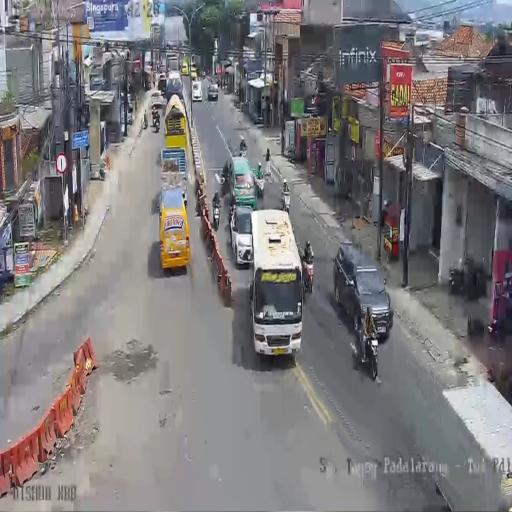car: (333, 240, 393, 344), (159, 186, 190, 270), (229, 154, 256, 212), (229, 204, 254, 266), (166, 75, 184, 103), (150, 89, 164, 112), (192, 80, 202, 102), (208, 83, 218, 101), (181, 58, 189, 76), (190, 66, 198, 80)
motorcycle: (352, 317, 379, 380), (300, 252, 314, 294), (212, 197, 221, 231), (282, 188, 291, 214), (152, 108, 160, 132), (143, 112, 148, 129), (165, 67, 169, 79)
truck: (166, 52, 179, 74), (157, 73, 167, 94)
